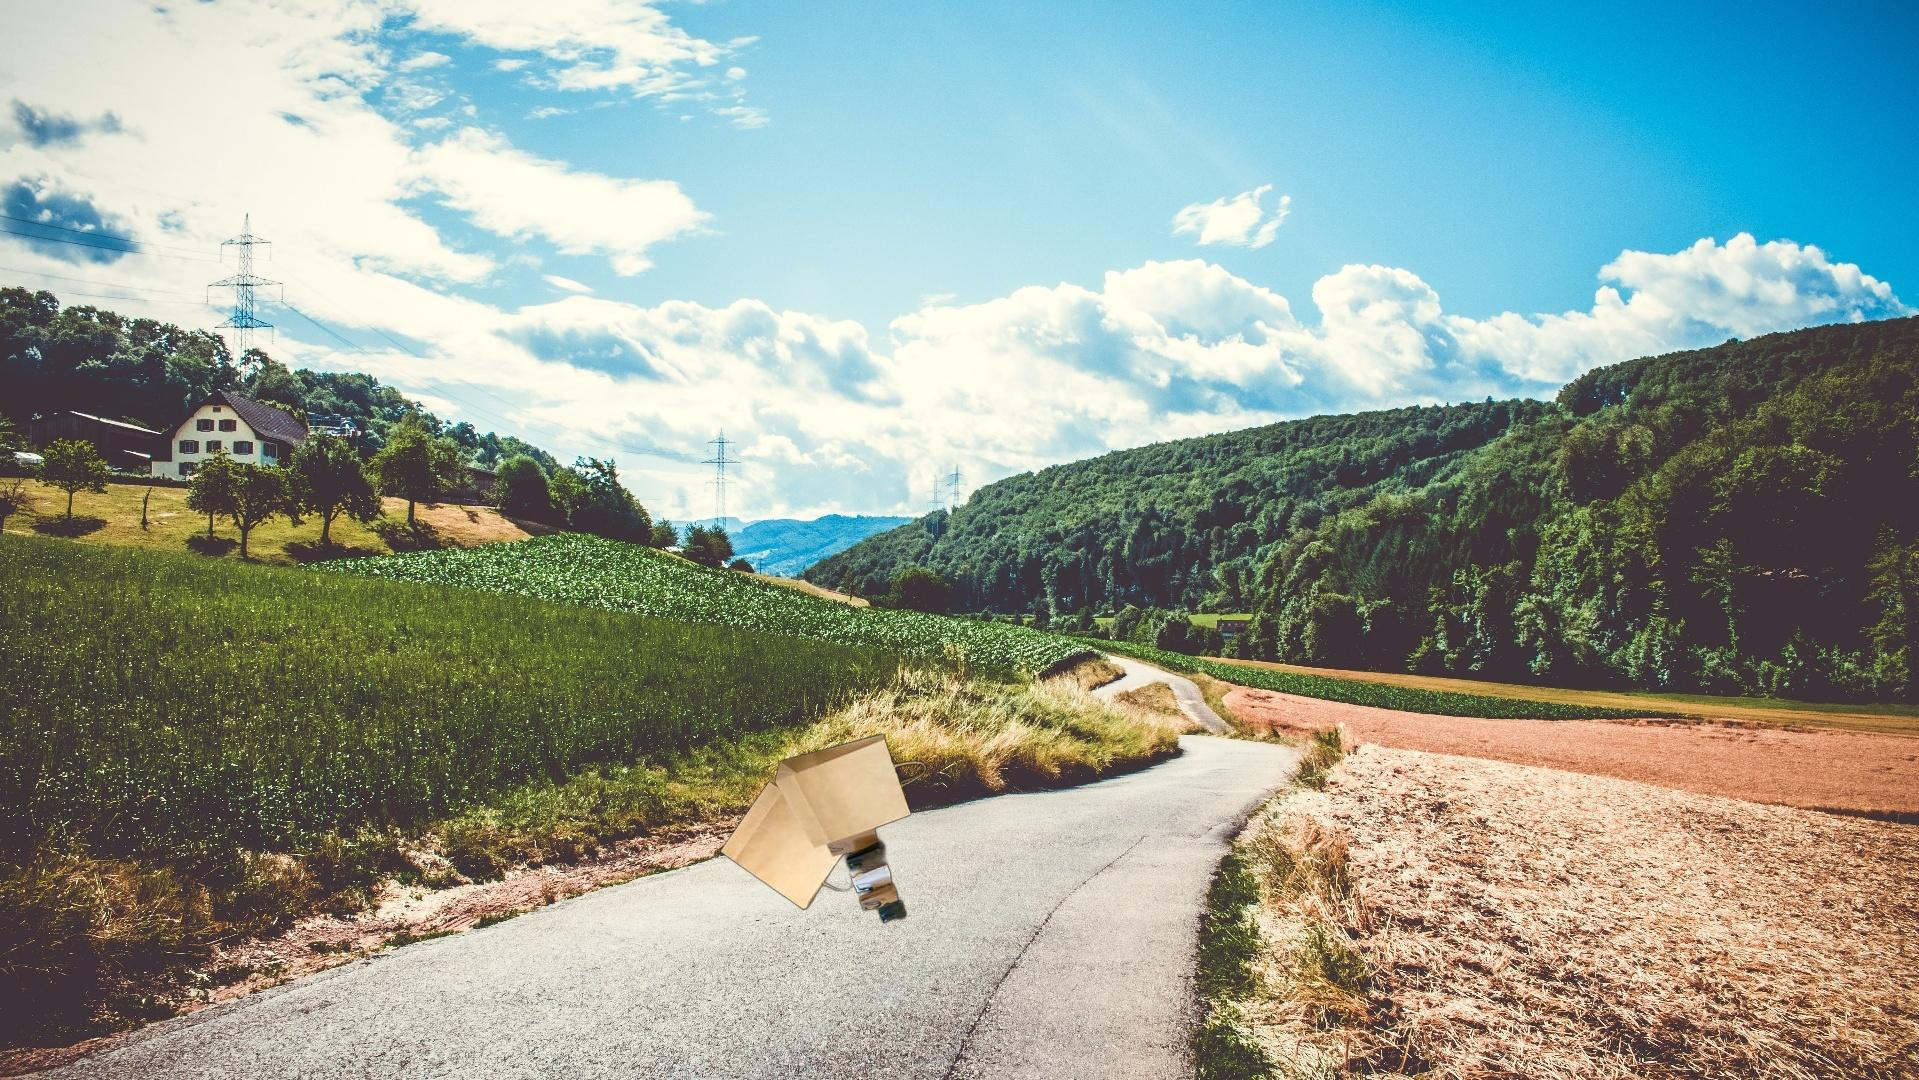paper-bag: (717, 731, 931, 927)
